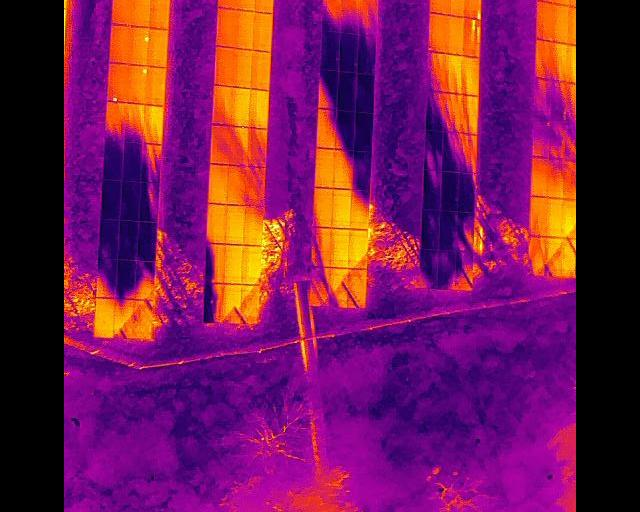Cell: (126, 65, 148, 103), (128, 26, 150, 64), (107, 63, 127, 101), (465, 0, 482, 18)
Cell-Multi: (463, 18, 481, 57)
No-Anomaly: (205, 203, 227, 242), (252, 48, 272, 89), (208, 164, 228, 204), (215, 6, 235, 46), (430, 11, 449, 53), (315, 146, 334, 187), (144, 103, 163, 143), (330, 227, 349, 267), (333, 188, 352, 228), (149, 27, 168, 66), (233, 48, 252, 87), (244, 244, 263, 283), (313, 187, 332, 226), (96, 296, 114, 337), (148, 66, 167, 104), (236, 10, 255, 48), (254, 11, 273, 49), (250, 90, 269, 127), (110, 24, 128, 63), (214, 46, 232, 85), (232, 87, 250, 126), (242, 283, 260, 322), (349, 228, 367, 267), (223, 283, 241, 321), (226, 205, 244, 243), (462, 57, 480, 95), (226, 243, 243, 283), (529, 196, 546, 236), (536, 2, 554, 39), (245, 205, 262, 244), (530, 157, 547, 196), (547, 197, 564, 236), (448, 16, 465, 54), (550, 42, 567, 80), (534, 39, 550, 77), (554, 3, 570, 41), (150, 0, 170, 28), (131, 0, 151, 26), (113, 0, 131, 25), (449, 0, 467, 15), (256, 0, 274, 12), (431, 0, 449, 12), (239, 0, 257, 10)
Shadowing: (309, 266, 331, 305), (133, 298, 154, 338), (99, 218, 119, 259), (212, 85, 233, 124), (228, 165, 249, 204), (418, 249, 439, 288), (204, 282, 224, 322), (206, 242, 226, 282), (229, 125, 249, 165), (123, 103, 144, 141), (333, 149, 353, 188), (335, 109, 355, 148), (439, 210, 459, 249), (211, 123, 230, 164), (103, 140, 122, 181), (117, 259, 136, 299), (119, 219, 138, 259), (123, 140, 142, 180), (310, 225, 329, 265), (420, 209, 439, 249), (426, 90, 445, 130), (442, 130, 461, 170), (120, 180, 139, 219), (246, 166, 265, 205), (248, 128, 267, 167), (317, 107, 336, 146), (319, 69, 338, 108), (348, 267, 367, 306), (352, 149, 371, 188), (101, 180, 120, 219), (135, 260, 154, 298), (338, 71, 357, 109), (340, 33, 359, 71), (114, 297, 132, 337), (137, 220, 155, 260), (351, 189, 369, 229), (423, 169, 441, 209), (439, 249, 457, 289), (441, 170, 459, 210), (98, 257, 116, 297), (140, 181, 158, 220), (331, 266, 349, 305), (355, 72, 373, 111), (529, 236, 547, 275), (105, 101, 123, 140), (547, 156, 564, 197), (321, 32, 339, 70), (424, 131, 442, 169), (429, 52, 447, 90), (457, 249, 474, 289), (463, 93, 480, 133), (446, 53, 463, 92), (461, 133, 478, 172), (547, 237, 564, 276), (142, 143, 159, 181), (355, 112, 372, 150), (446, 93, 463, 131), (458, 211, 475, 249), (322, 0, 342, 32), (358, 32, 374, 72), (532, 116, 548, 156), (459, 172, 475, 211), (534, 77, 550, 116), (548, 117, 564, 156), (550, 80, 565, 117), (342, 0, 359, 32), (359, 0, 375, 33)
